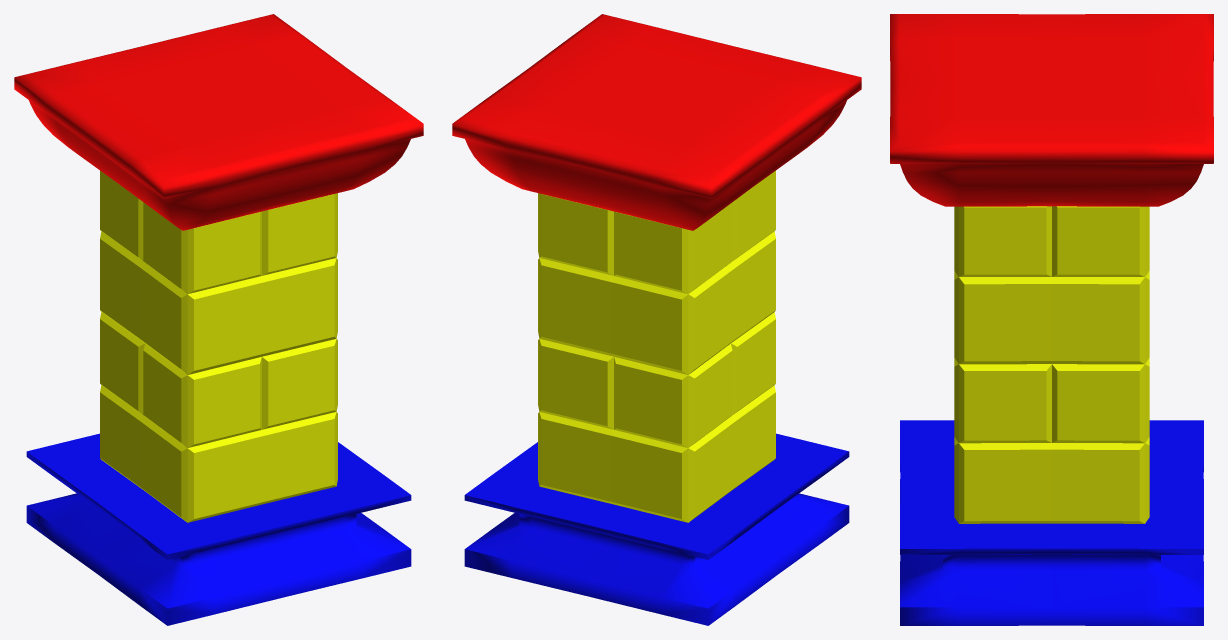
The model's file is FBXpillar.fbx.
3 views of the same model, side by side, from view 1: azimuth 30°, elevation 25°; view 2: azimuth 150°, elevation 25°; view 3: azimuth 270°, elevation 25° (orthographic). The views are drawn at different scales.
Visible parts, largest first — view 1: polySurface131 (×3); view 2: polySurface131 (×3); view 3: polySurface131 (×3).
Boxes of the visible parts, box(x1,y1,x2,y2) form: polySurface131 (×3): box(14, 14, 423, 625); polySurface131 (×3): box(452, 14, 861, 625); polySurface131 (×3): box(890, 14, 1213, 625).
Size of the model in its own units: 3.28 by 5.42 by 3.29.
